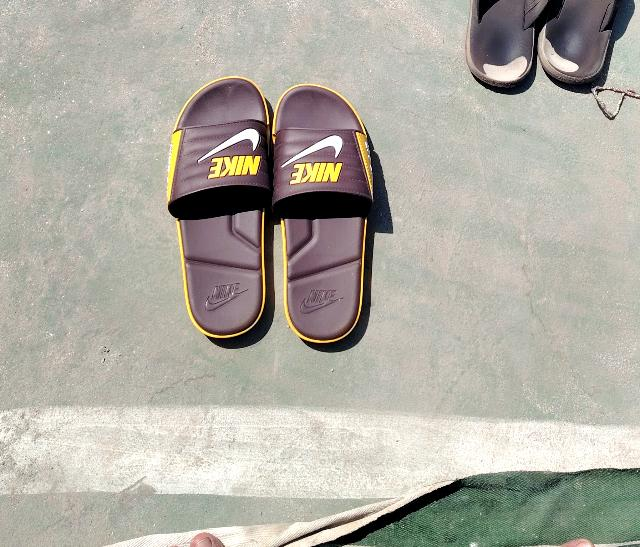sandal: (157, 76, 380, 348)
